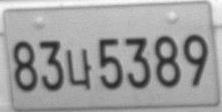3: (124, 36, 151, 89), (39, 39, 64, 91)
5: (97, 38, 123, 90)
8: (153, 34, 181, 88), (12, 39, 38, 92)
9: (182, 32, 209, 87)
나: (65, 48, 91, 90)
